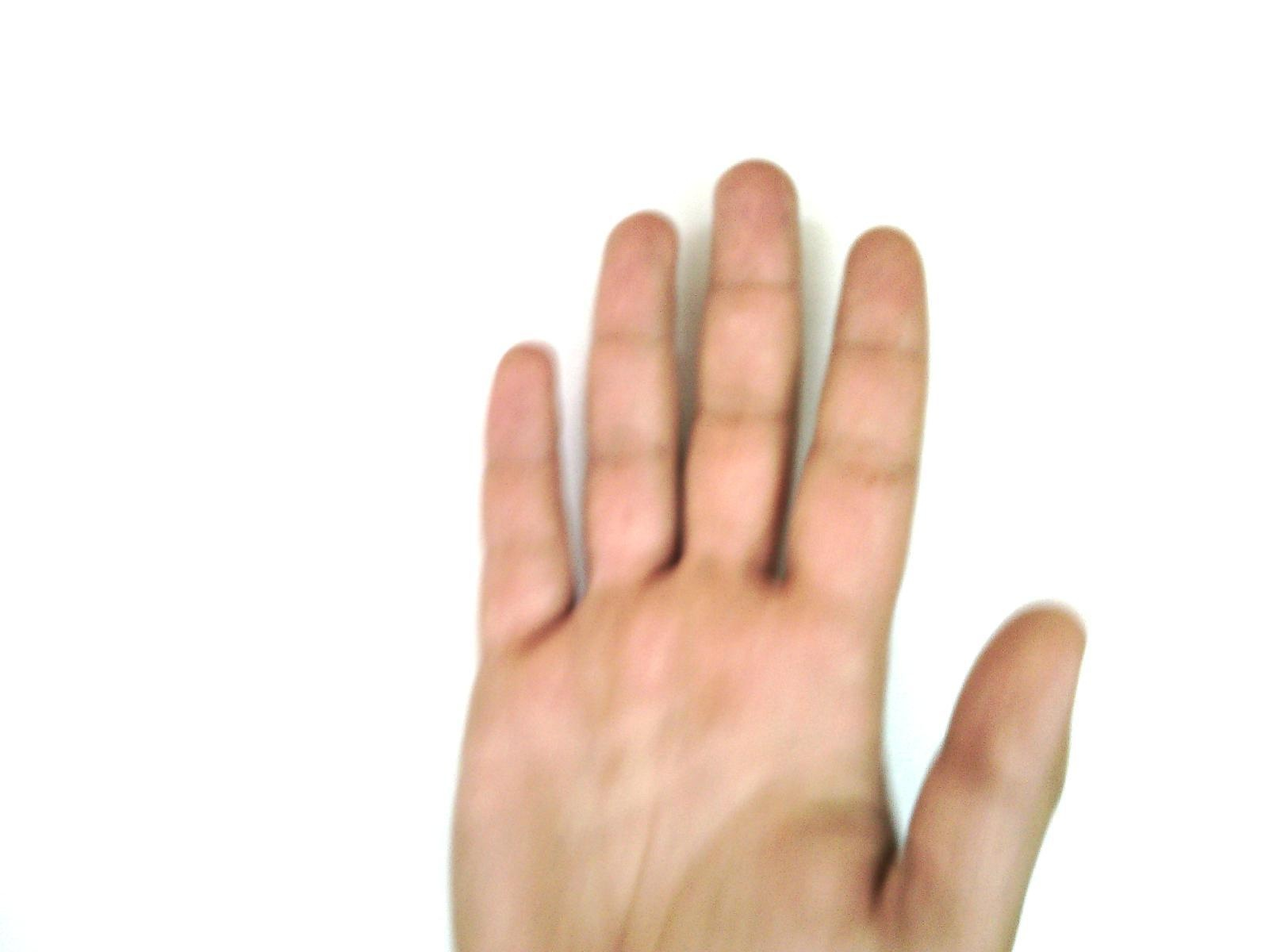open_palm: (443, 158, 1089, 951)
